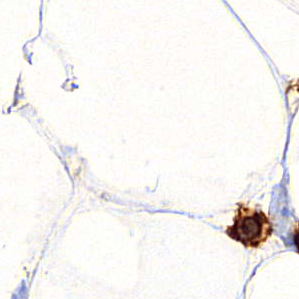Lymphocyte: (226, 203, 274, 247)
